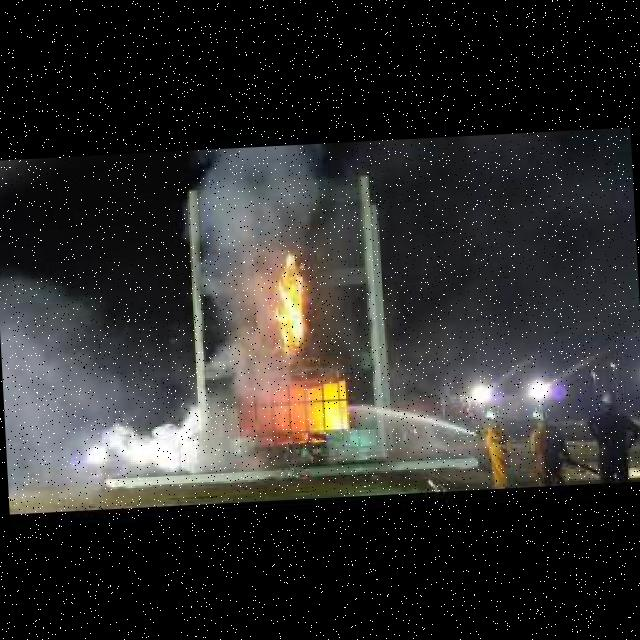fire: (253, 248, 322, 360)
